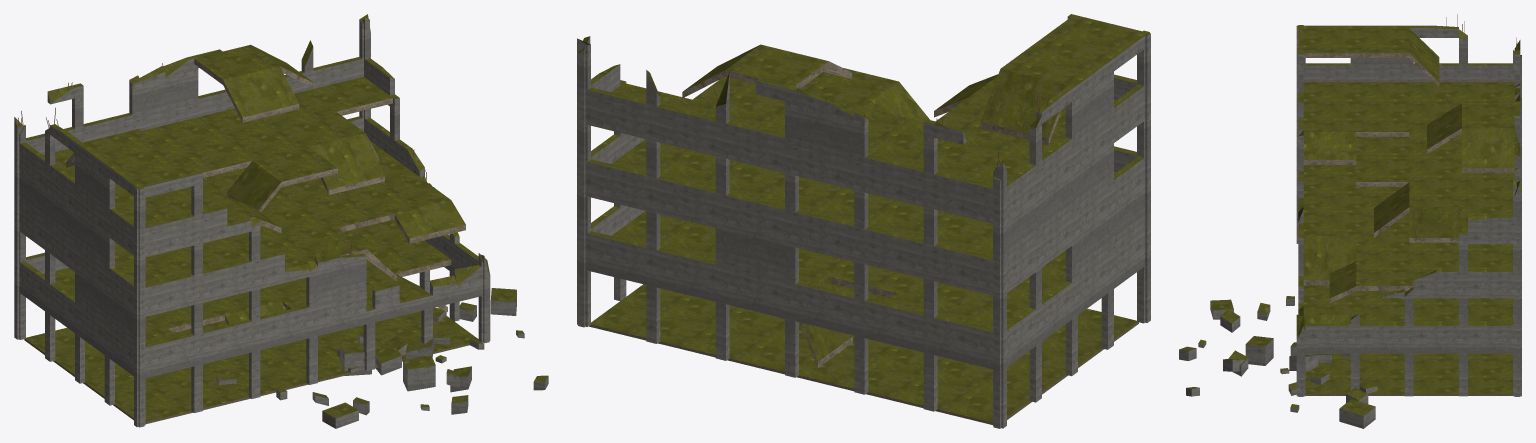
Rendered from bld_f.gltf.
The picture shows the model from 3 angles, left to right: view 1: azimuth 30°, elevation 25°; view 2: azimuth 150°, elevation 25°; view 3: azimuth 270°, elevation 25°; orthographic projection. The views are drawn at different scales.
Parts seen in each view (by area): view 1: bld_f; view 2: bld_f; view 3: bld_f.
Part boxes in pixels (box(x1,y1,x2,y2)): bld_f: box(14, 14, 548, 428); bld_f: box(577, 14, 1150, 428); bld_f: box(1179, 14, 1521, 428).
Bounding box in the file's own units: 24.14 × 14.6 × 19.01.
